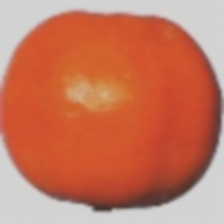tangerine: (49, 23, 214, 201)
